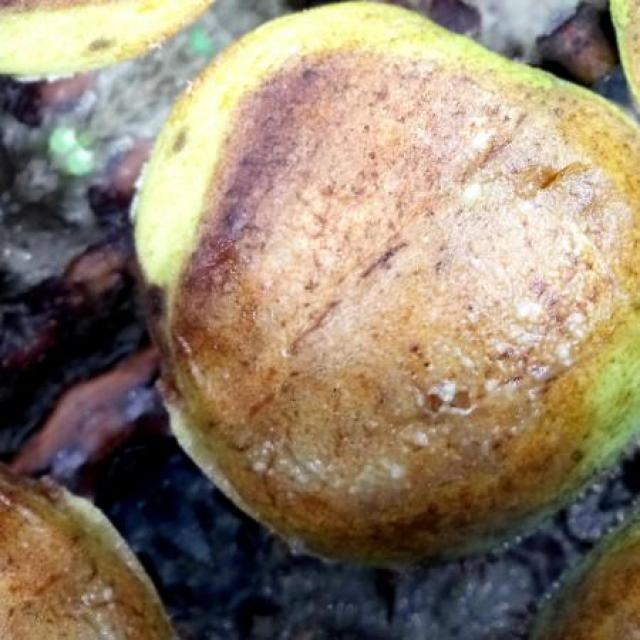Styler and Root: (172, 54, 640, 559), (550, 529, 640, 639)
